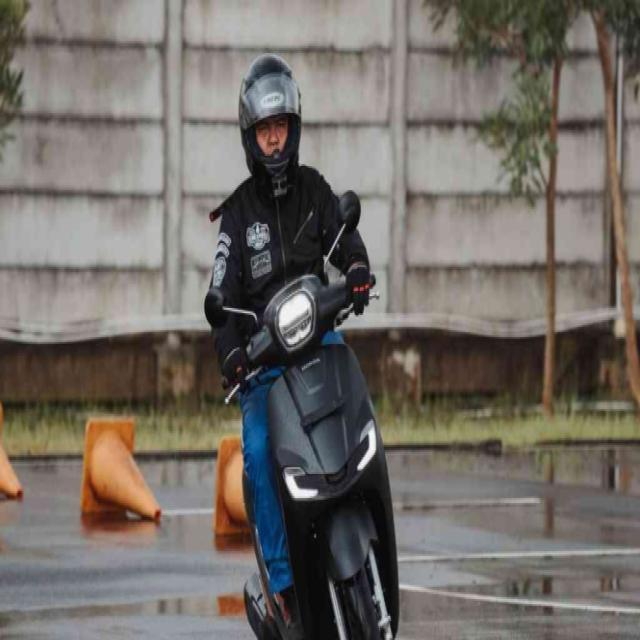Helmet: (239, 54, 300, 195)
Rearview Mirror: (339, 190, 360, 232), (204, 287, 226, 327)
